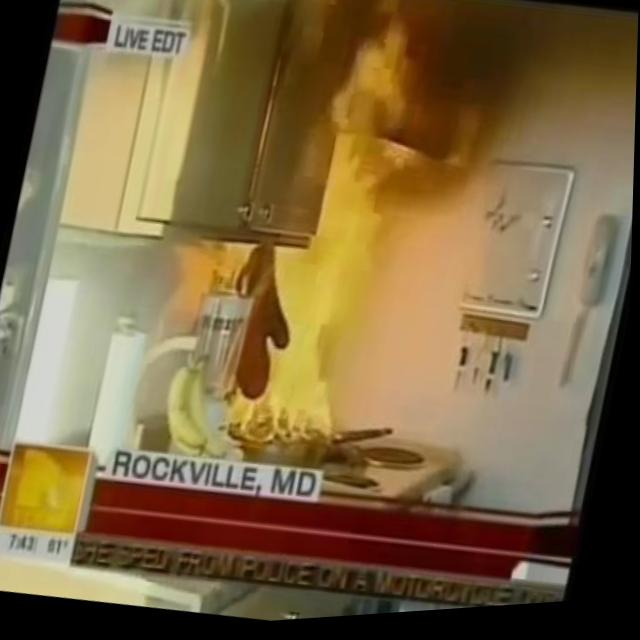fire: (235, 2, 438, 464)
